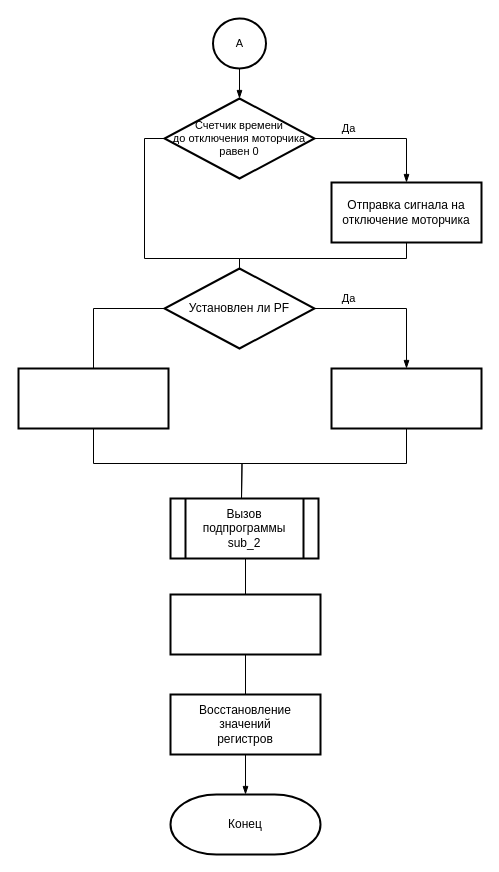
Image size: 499x872. Some labels were removed from this diagram. Here are the shapes that lost their labels. From the top down, the box of each, then its label:
(17, 367, 169, 429): Косвенный вызов прерывания по адресу 6ADh
(330, 367, 482, 429): Вызов прерывания 1Ch
(169, 593, 321, 655): Сброс контроллера прерываний
